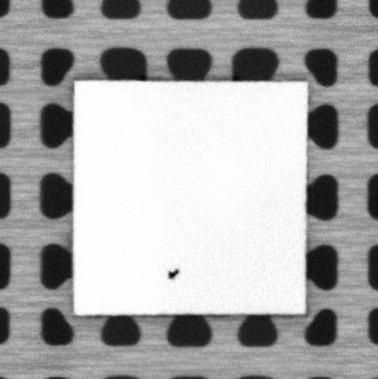DIE_INK: (166, 263, 181, 283)
